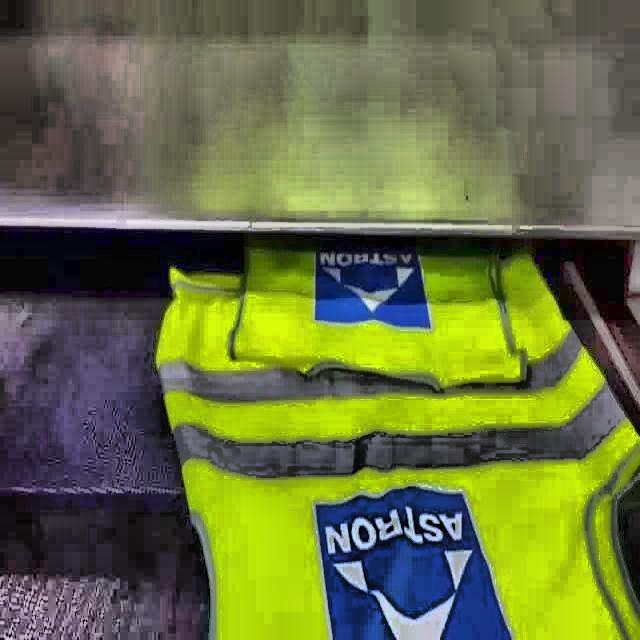safety_jacket: (153, 253, 640, 640)
